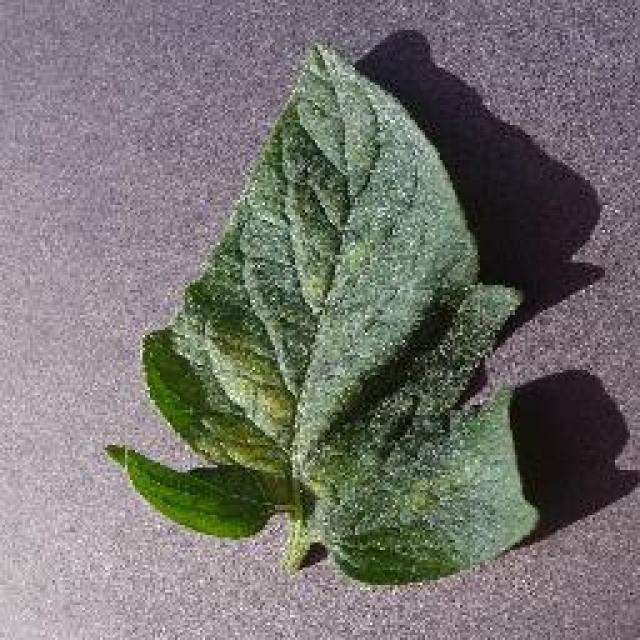Tomato spider mites leaf: (103, 40, 542, 585)
